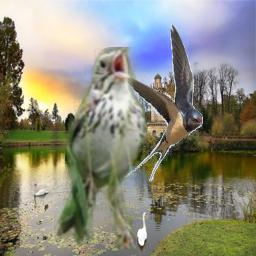Sparrow: (54, 47, 147, 249)
Swallow: (101, 23, 203, 184)
